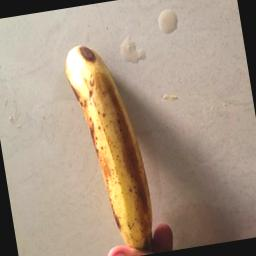Banana Ripe: (42, 23, 194, 256)
